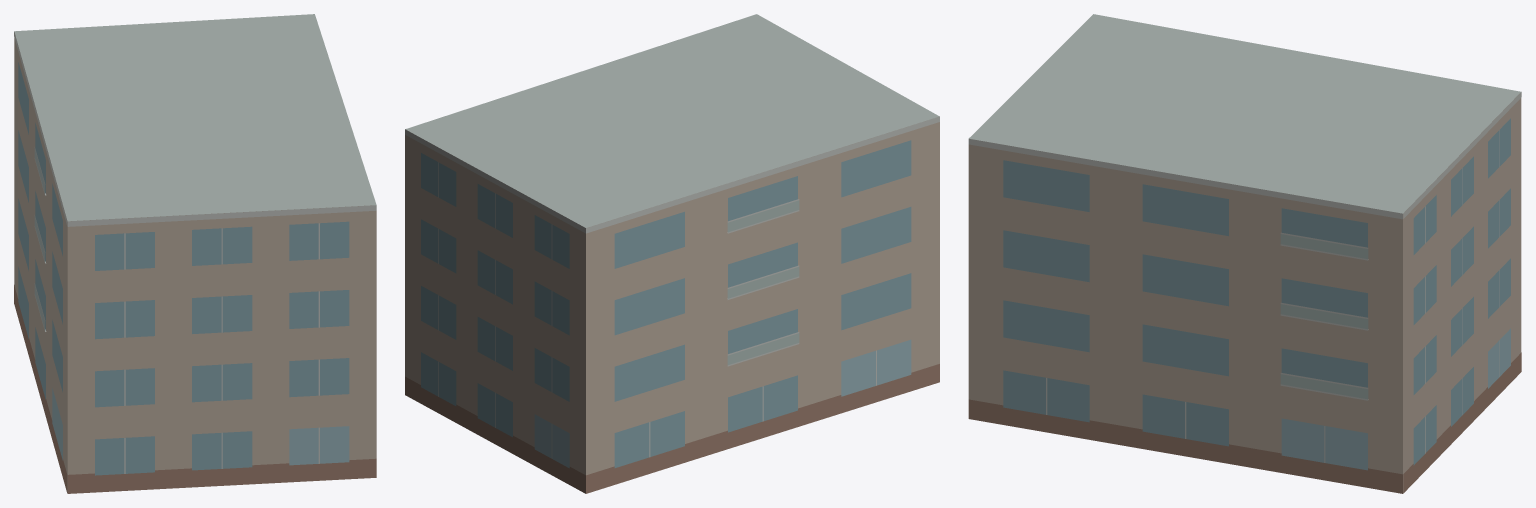
File: survey-upis-32780449.glb
3 views of the same model, side by side, from view 1: azimuth 30°, elevation 25°; view 2: azimuth 150°, elevation 25°; view 3: azimuth 270°, elevation 25° (orthographic). The views are drawn at different scales.
Parts seen in each view (by area): view 1: survey-upis-32780449.tmp; view 2: survey-upis-32780449.tmp; view 3: survey-upis-32780449.tmp.
Part boxes in pixels (x1,y1,x2,y2): survey-upis-32780449.tmp: [14, 14, 376, 493]; survey-upis-32780449.tmp: [405, 14, 939, 493]; survey-upis-32780449.tmp: [968, 14, 1521, 493].
Size of the model in its own units: 18.06 by 11.82 by 21.14.
